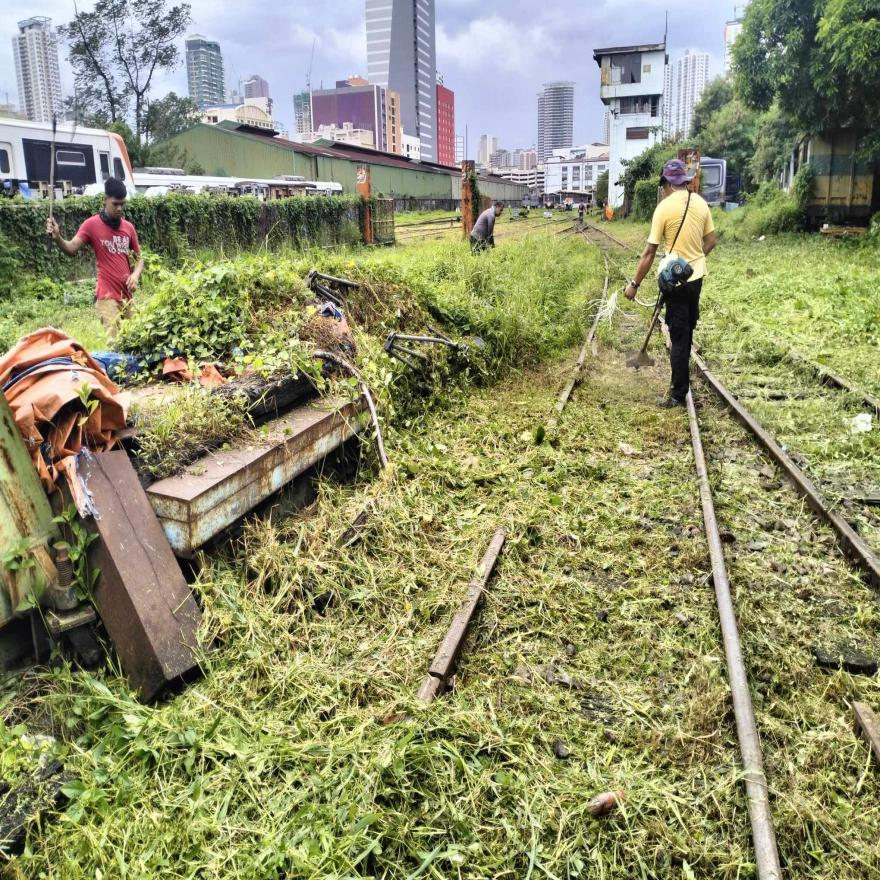railway-gap: (398, 628, 469, 722)
